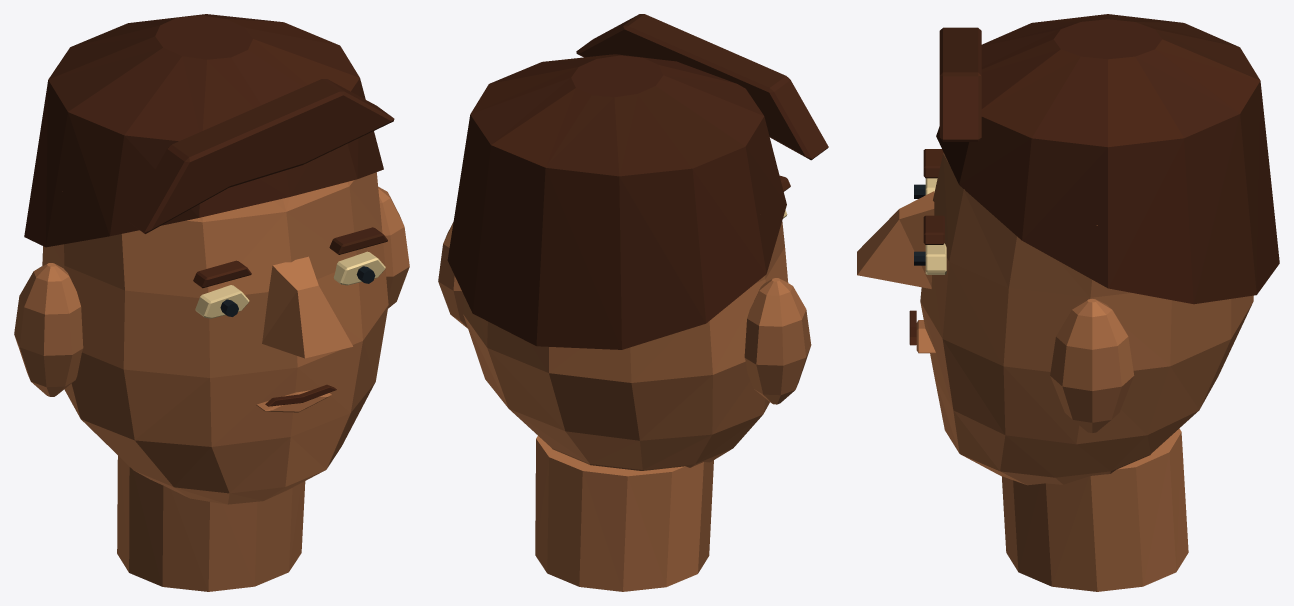
Rendered from EP_Head_Cropped.fbx.
3 views of the same model, side by side, from view 1: azimuth 30°, elevation 25°; view 2: azimuth 150°, elevation 25°; view 3: azimuth 270°, elevation 25° (orthographic). The views are drawn at different scales.
Parts seen in each view (by area): view 1: EP_Head_Cropped; view 2: EP_Head_Cropped; view 3: EP_Head_Cropped.
Boxes of the visible parts, box(x1,y1,x2,y2) form: EP_Head_Cropped: box(14, 14, 409, 591); EP_Head_Cropped: box(438, 14, 828, 591); EP_Head_Cropped: box(857, 14, 1279, 591).
Bounding box in the file's own units: 0.254 × 0.323 × 0.241.
